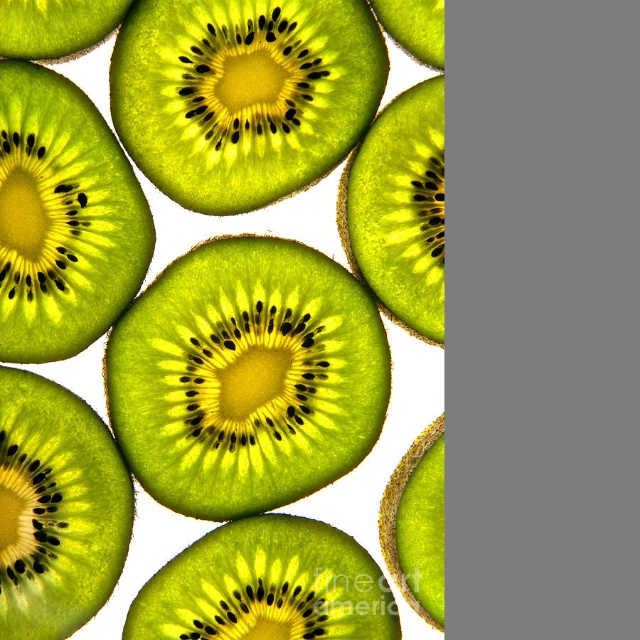kiwi: (108, 236, 393, 513), (126, 1, 377, 206), (1, 56, 156, 373), (119, 515, 404, 640), (1, 364, 121, 623), (353, 66, 443, 343), (386, 409, 447, 626)
